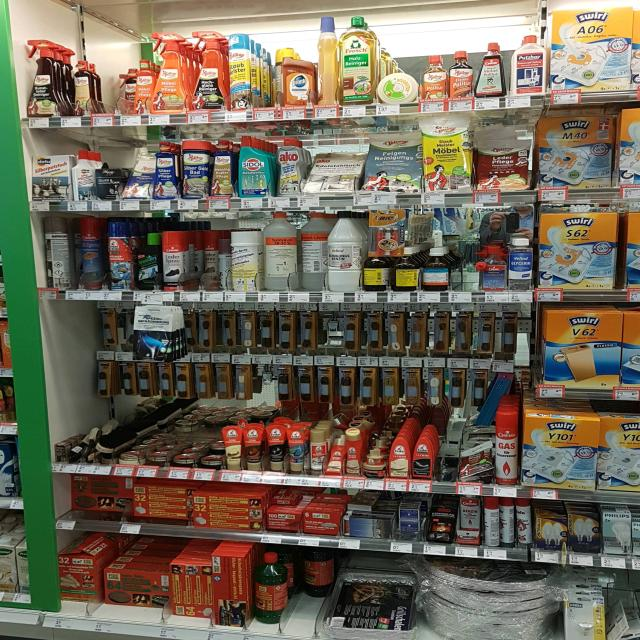empty: (94, 56, 133, 130)
